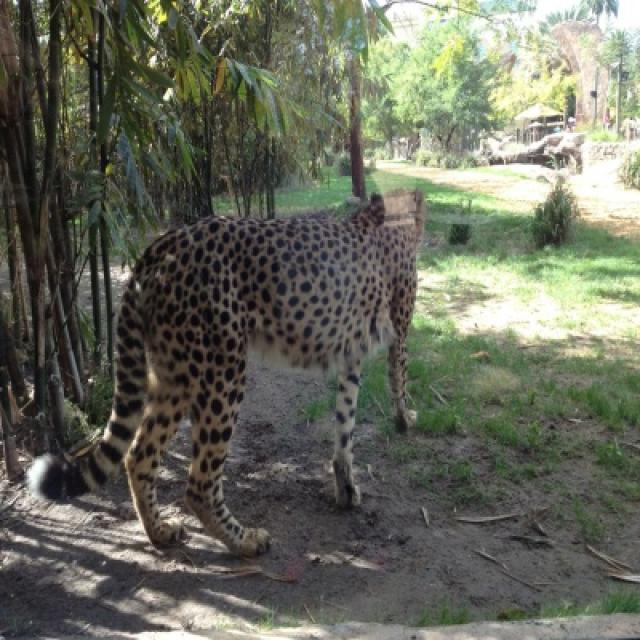Cheetah: (27, 190, 422, 555)
